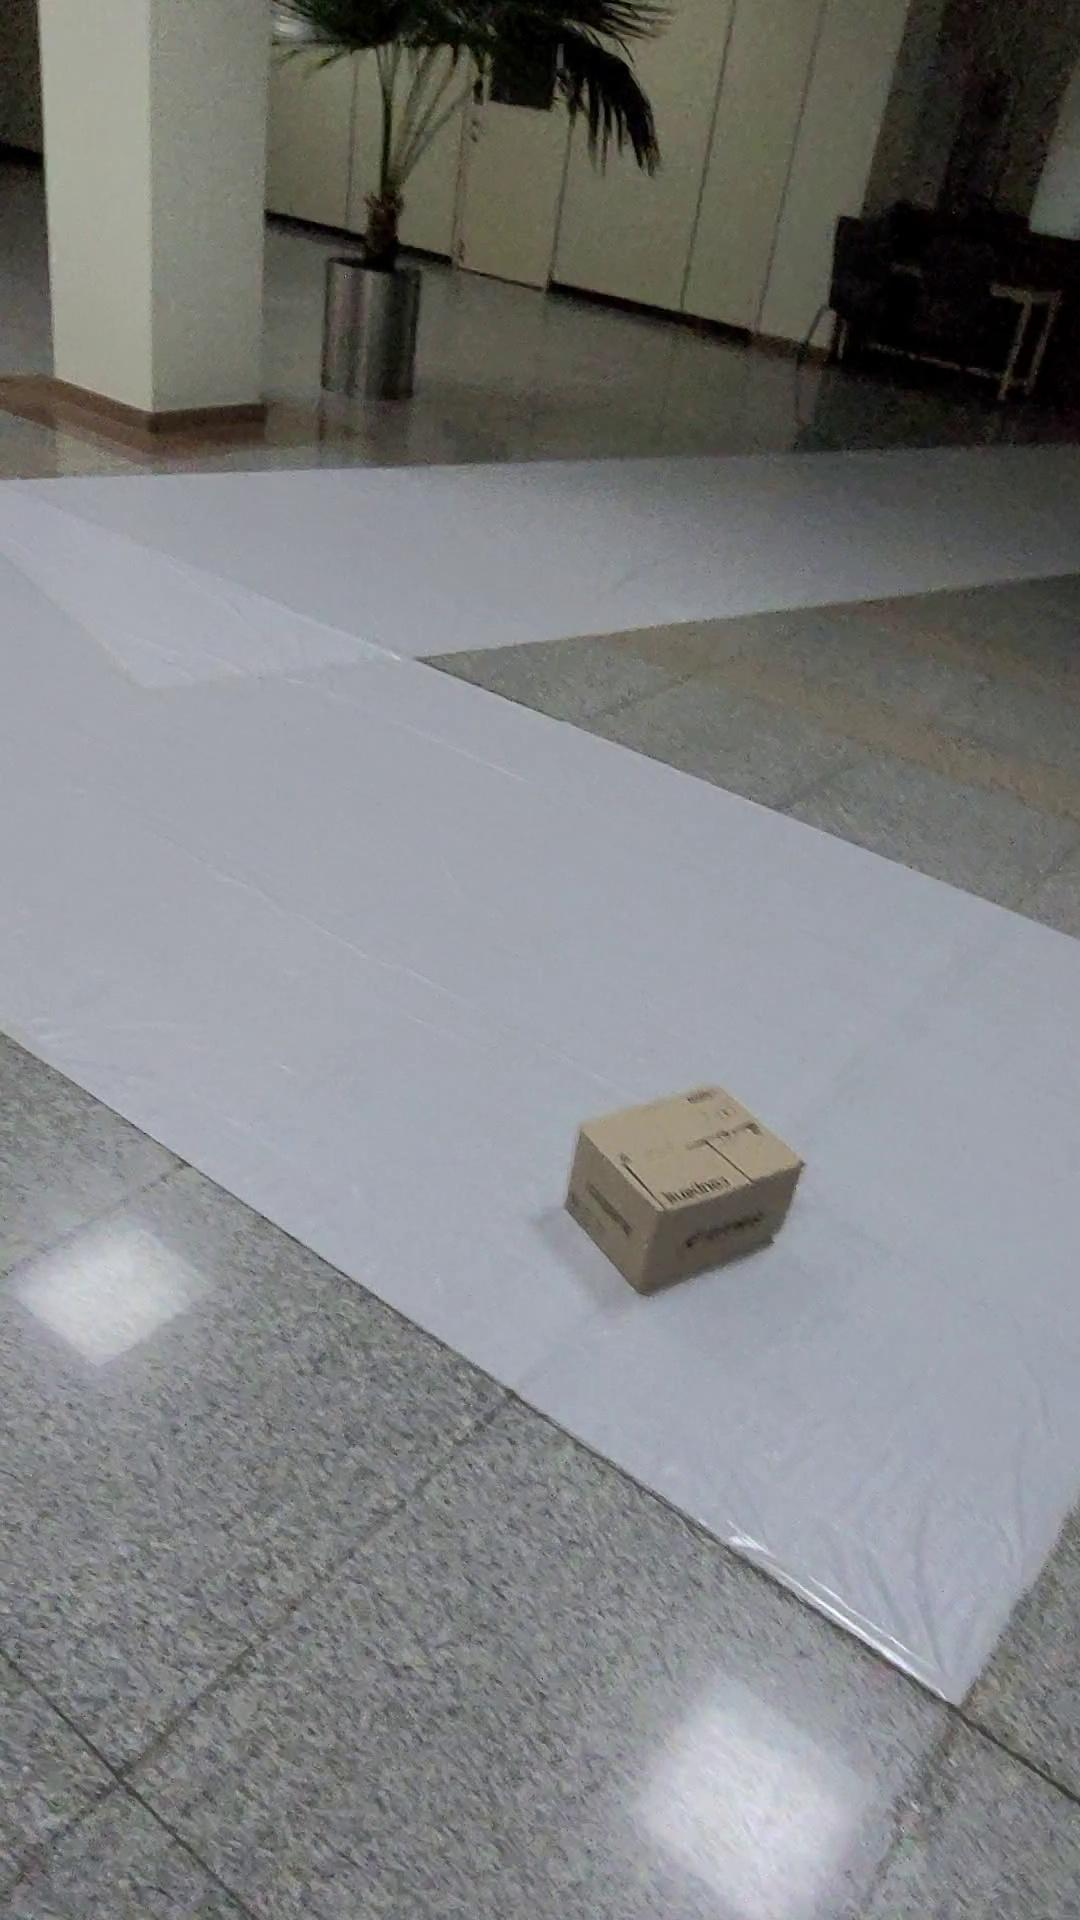Box: (541, 1055, 829, 1307)
